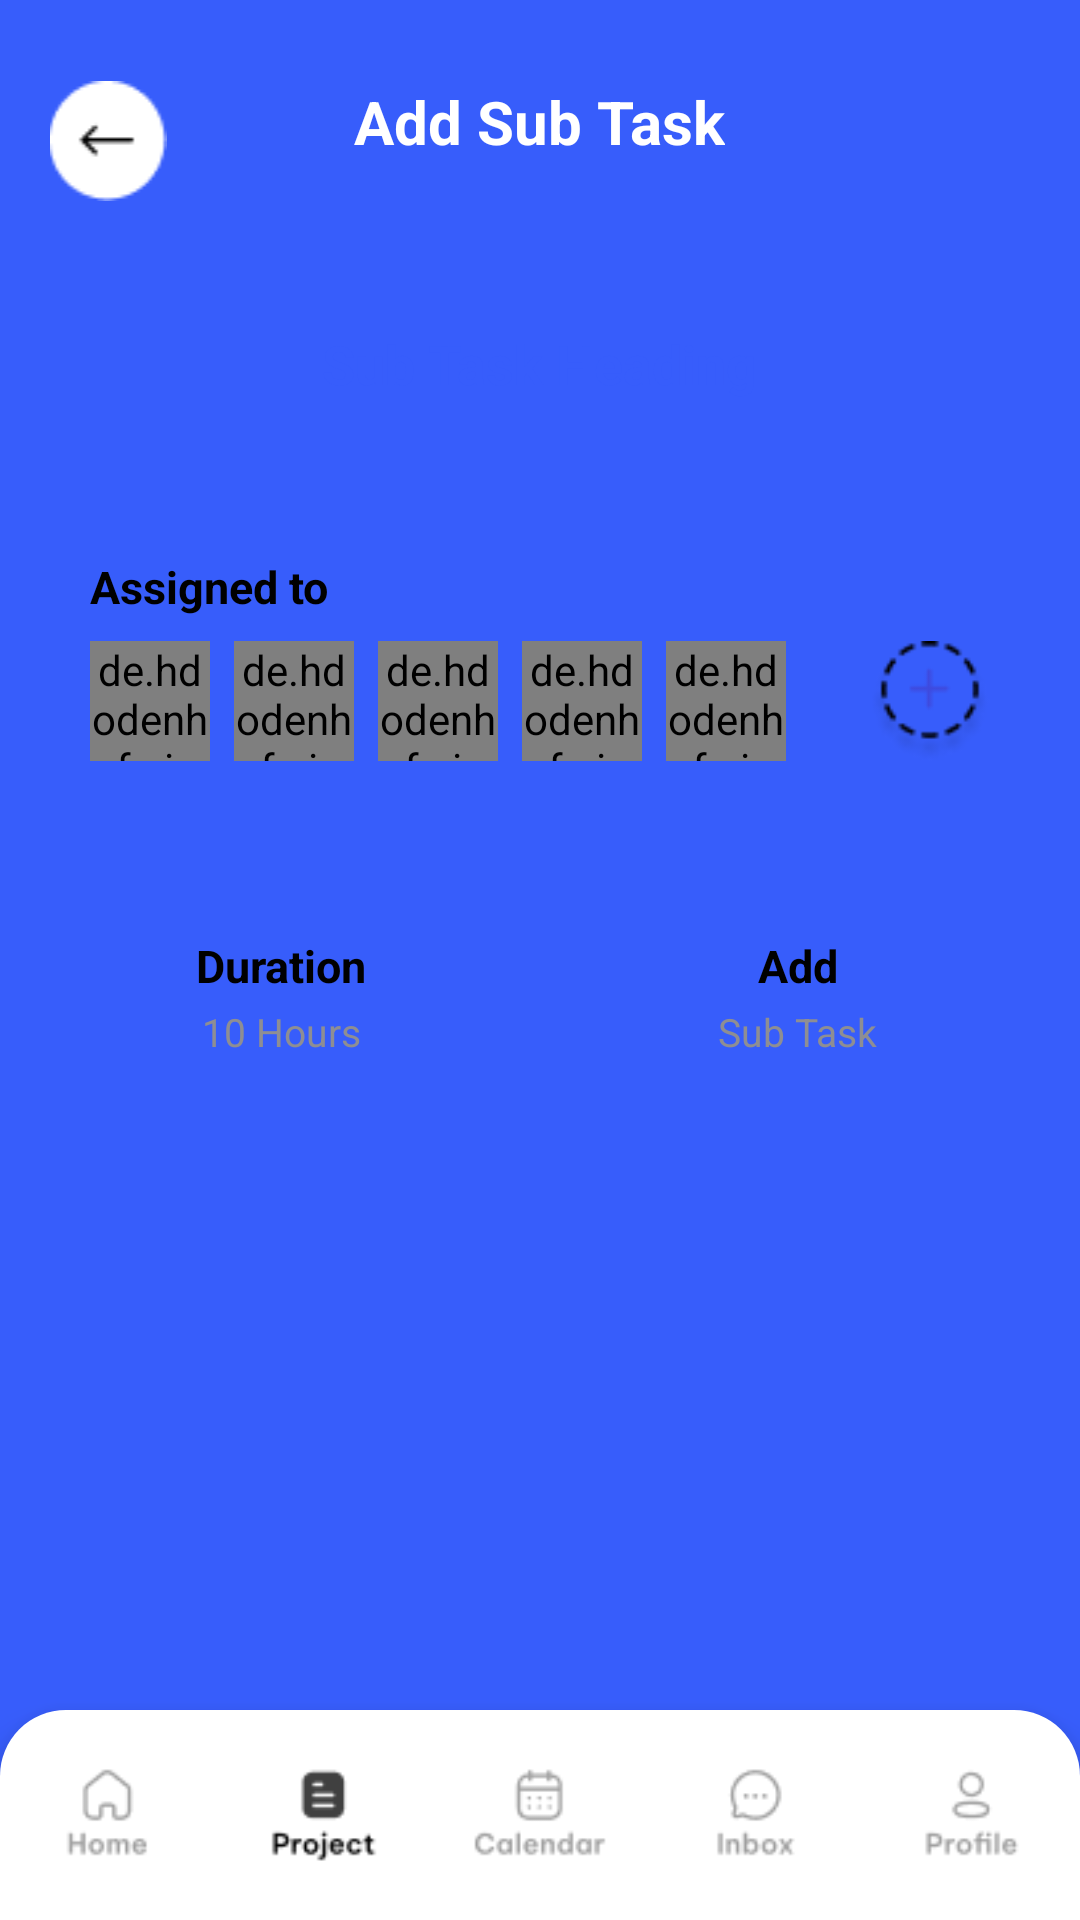

Point at icon controls on the screen. Image size 1080x1920, points as [x,y].
add dotted: [930,690]
back arrow: [108,141]
